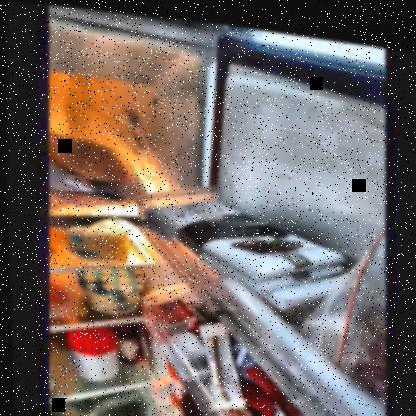chocolate: (153, 189, 353, 291)
salami: (46, 132, 129, 191)
yoghurt: (75, 265, 143, 312), (61, 222, 130, 261)
